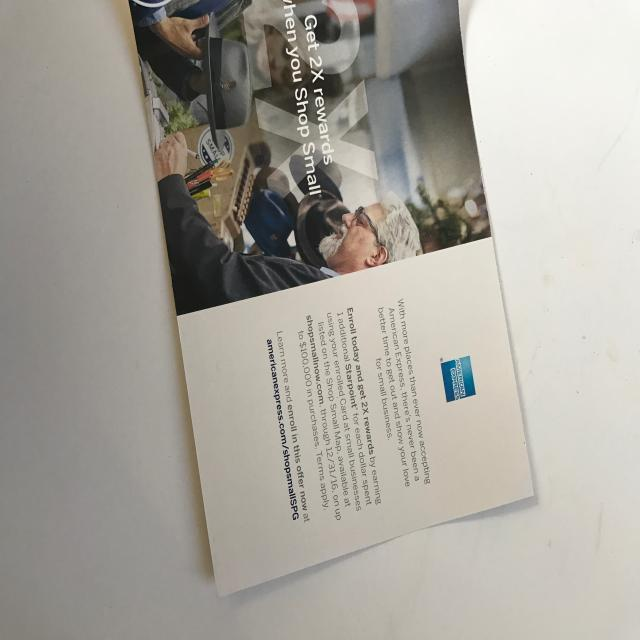paper: (125, 1, 534, 596)
